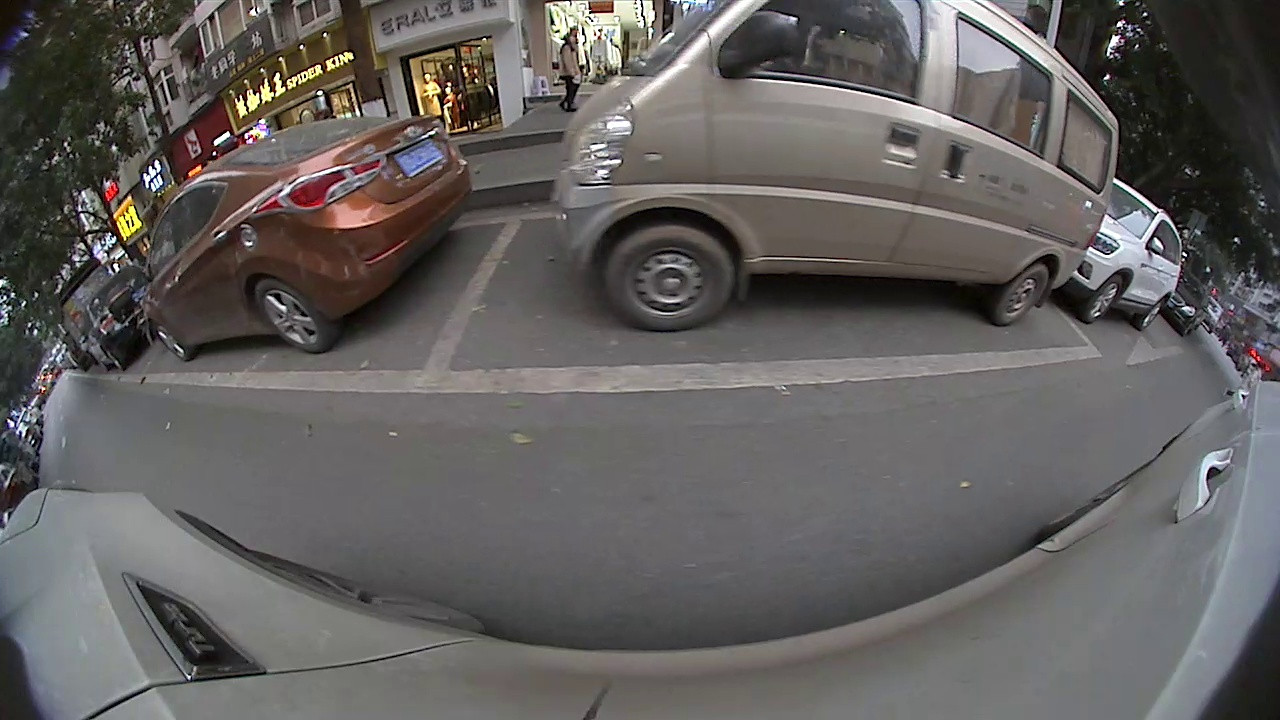car: (548, 4, 1123, 335), (138, 109, 478, 365), (1066, 177, 1184, 333), (82, 260, 161, 371)
front: (611, 228, 738, 333), (1090, 272, 1122, 330), (150, 328, 194, 363)
person: (559, 27, 586, 113)
rear: (251, 278, 334, 354), (998, 262, 1054, 328)
